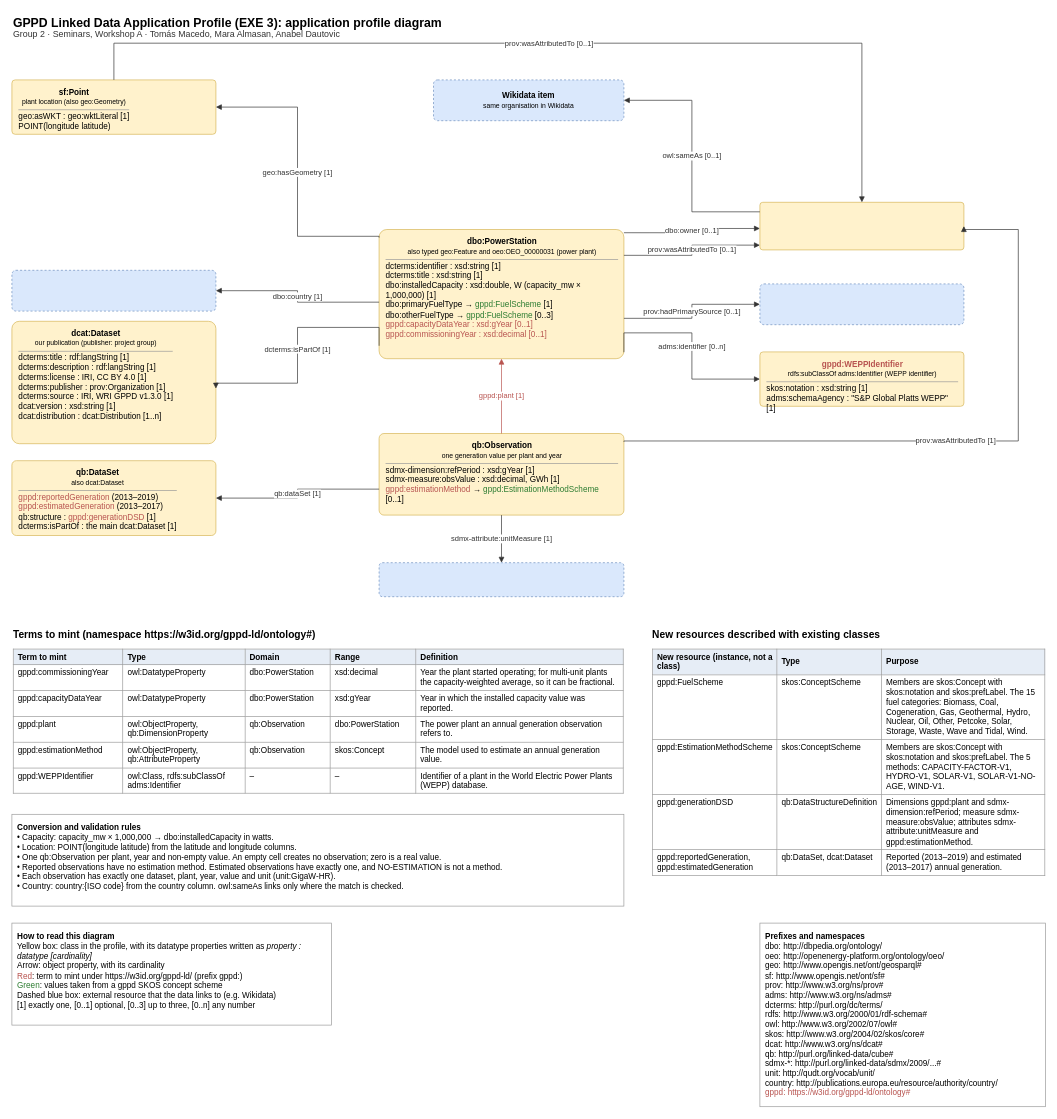
The diagram is 1057 pixels wide and 1119 high, and some of its shapes have lost their labels. Here are the shapes that lost their labels. From the top down, the centre of each, then its label:
At (861,226): "prov:Organization owner or data source rdfs:label : xsd:string [1]".
At (113,290): "country:{ISO alpha-3 code} EU countries and territories authority table".
At (861,304): "Source document IRI of a web page or ftp file".
At (501,579): "unit:GigaW-HR QUDT unit, gigawatt hour".
